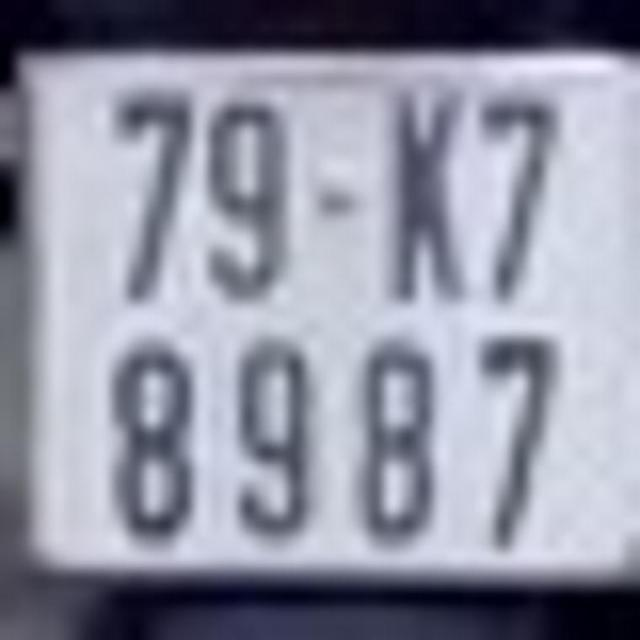7: (112, 90, 187, 297), (480, 96, 555, 302), (482, 336, 554, 546)
8: (113, 346, 194, 536), (364, 341, 439, 538)
9: (204, 99, 290, 304), (240, 338, 308, 538)
K: (392, 88, 467, 301)
